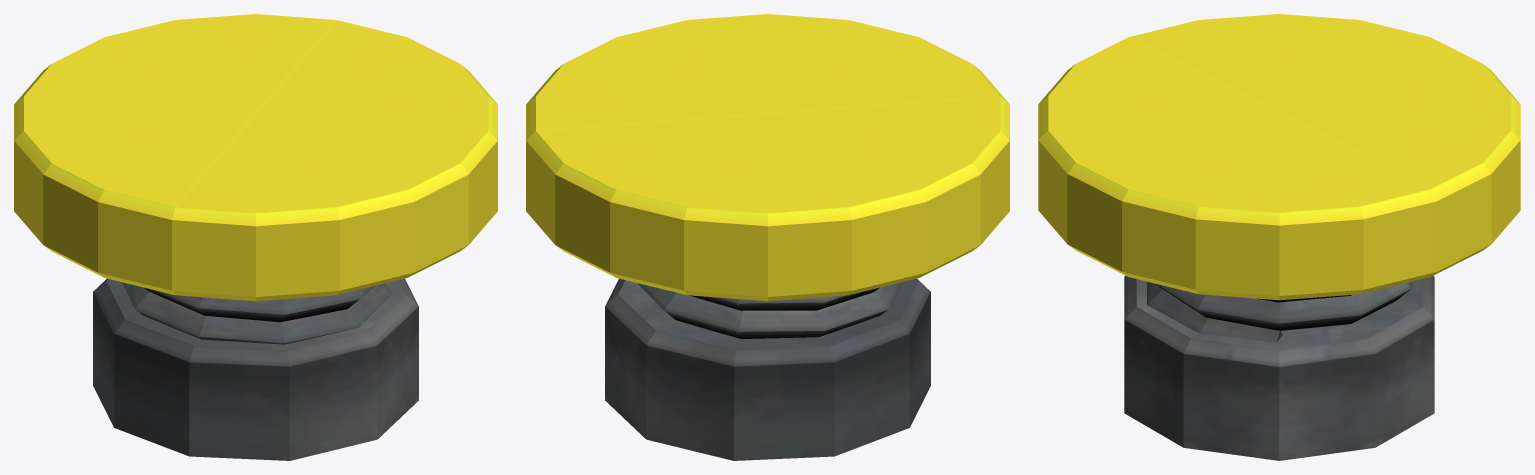
The model's file is springclassicyellow_ground.obj.
The picture shows the model from 3 angles, left to right: view 1: azimuth 30°, elevation 25°; view 2: azimuth 150°, elevation 25°; view 3: azimuth 270°, elevation 25°; orthographic projection.
Parts seen in each view (by area): view 1: rdmobj00_rdmobj00.004; view 2: rdmobj00_rdmobj00.004; view 3: rdmobj00_rdmobj00.004.
Boxes of the visible parts, x1,y1,x2,y2 form: rdmobj00_rdmobj00.004: [14, 14, 497, 460]; rdmobj00_rdmobj00.004: [526, 14, 1009, 460]; rdmobj00_rdmobj00.004: [1038, 14, 1520, 460].
Bounding box in the file's own units: 36 × 22.61 × 35.45.
1 material, 1 textured.
